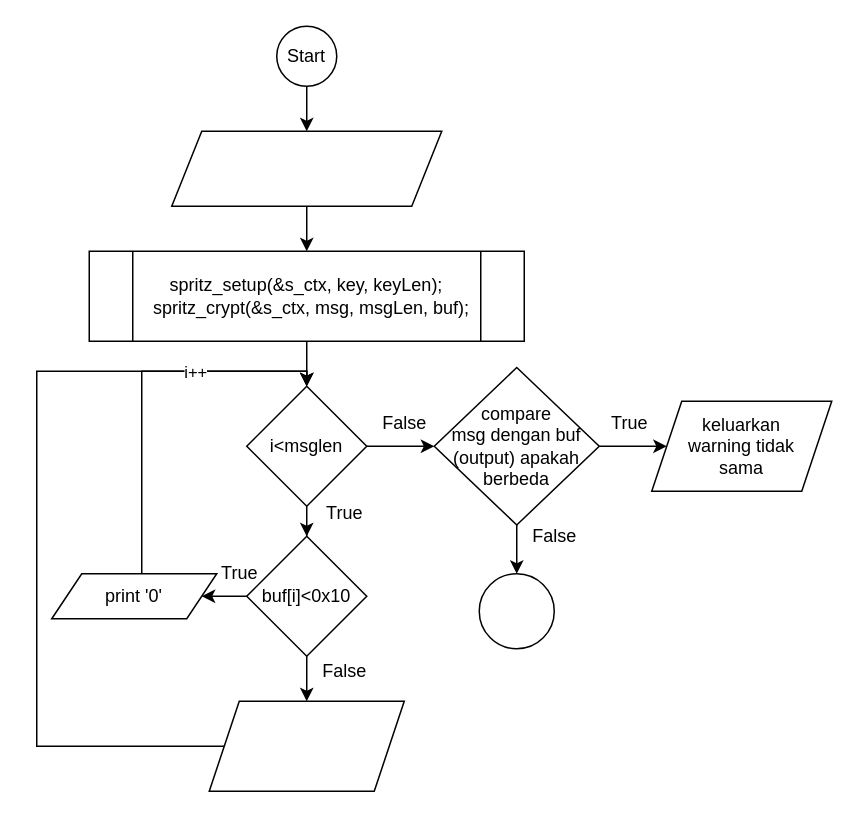
Some shapes in this 858 by 818 pixel diagram are drawn without their labels. The centre of each missing label's shape, as x and y in pixels:
"buf[i], dalam hexa decimal" belongs at pixel 306 745.
"input fungsi msg, msg len, key, dan key len" belongs at pixel 306 168.
"Stop" belongs at pixel 516 610.
